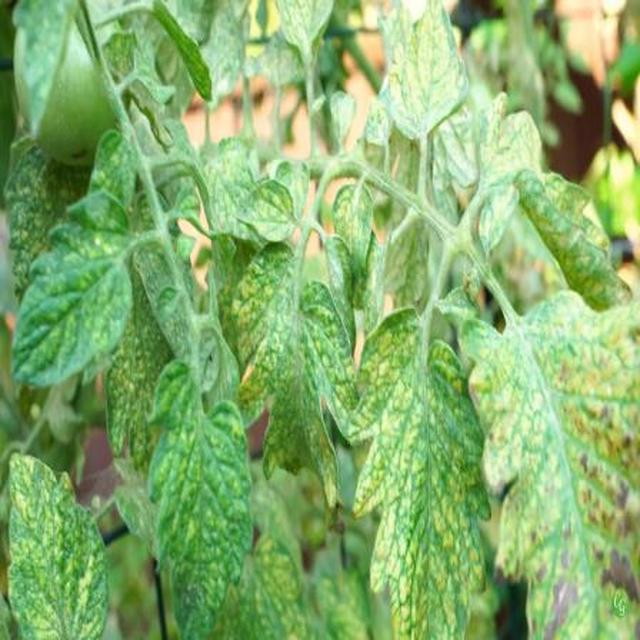Spider Mites Leaf: (60, 100, 640, 640)
